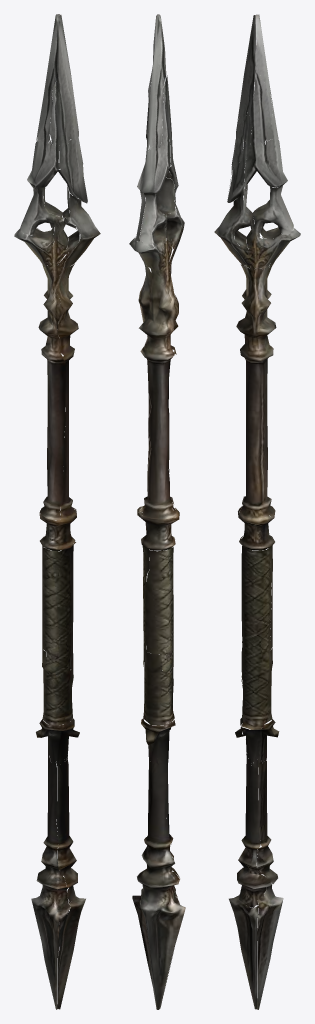
Rendered from iron_spear.glb.
3 renders of one model, left to right at view 1: azimuth 90°, elevation 25°; view 2: azimuth 150°, elevation 25°; view 3: azimuth 270°, elevation 25°, orthographic.
Visible parts, largest first — view 1: iron_spear; view 2: iron_spear; view 3: iron_spear.
Part boxes in pixels (<box>): iron_spear: <box>14,14,100,1009</box>; iron_spear: <box>129,14,185,1009</box>; iron_spear: <box>214,14,300,1009</box>.
Size of the model in its own units: 0.1294 by 2.3 by 0.1813.
Materials: 1 (1 with a texture image).
